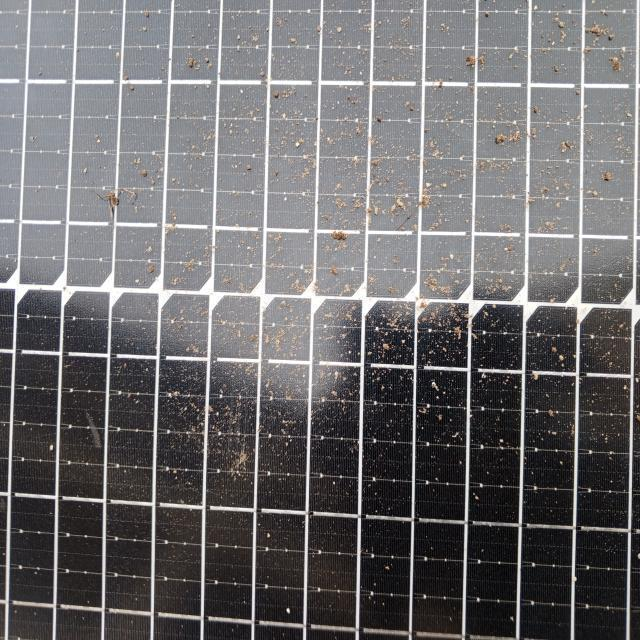Surface Contaminant: (10, 11, 635, 616)
